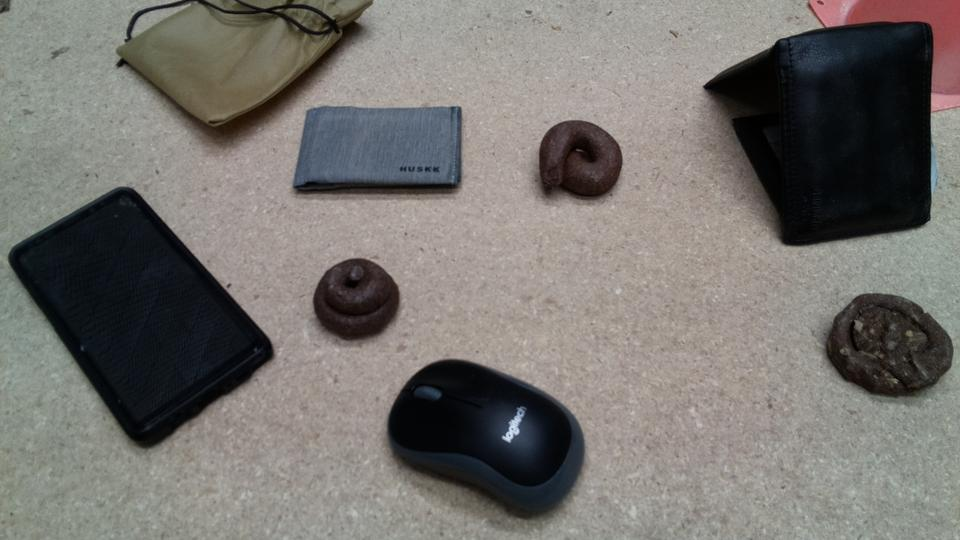poop: (824, 289, 955, 400), (310, 255, 403, 341), (536, 117, 627, 203)
